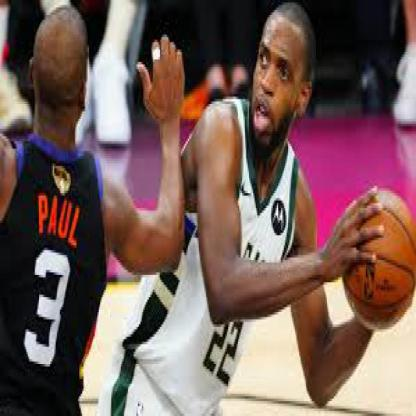basketball: (340, 189, 414, 335)
